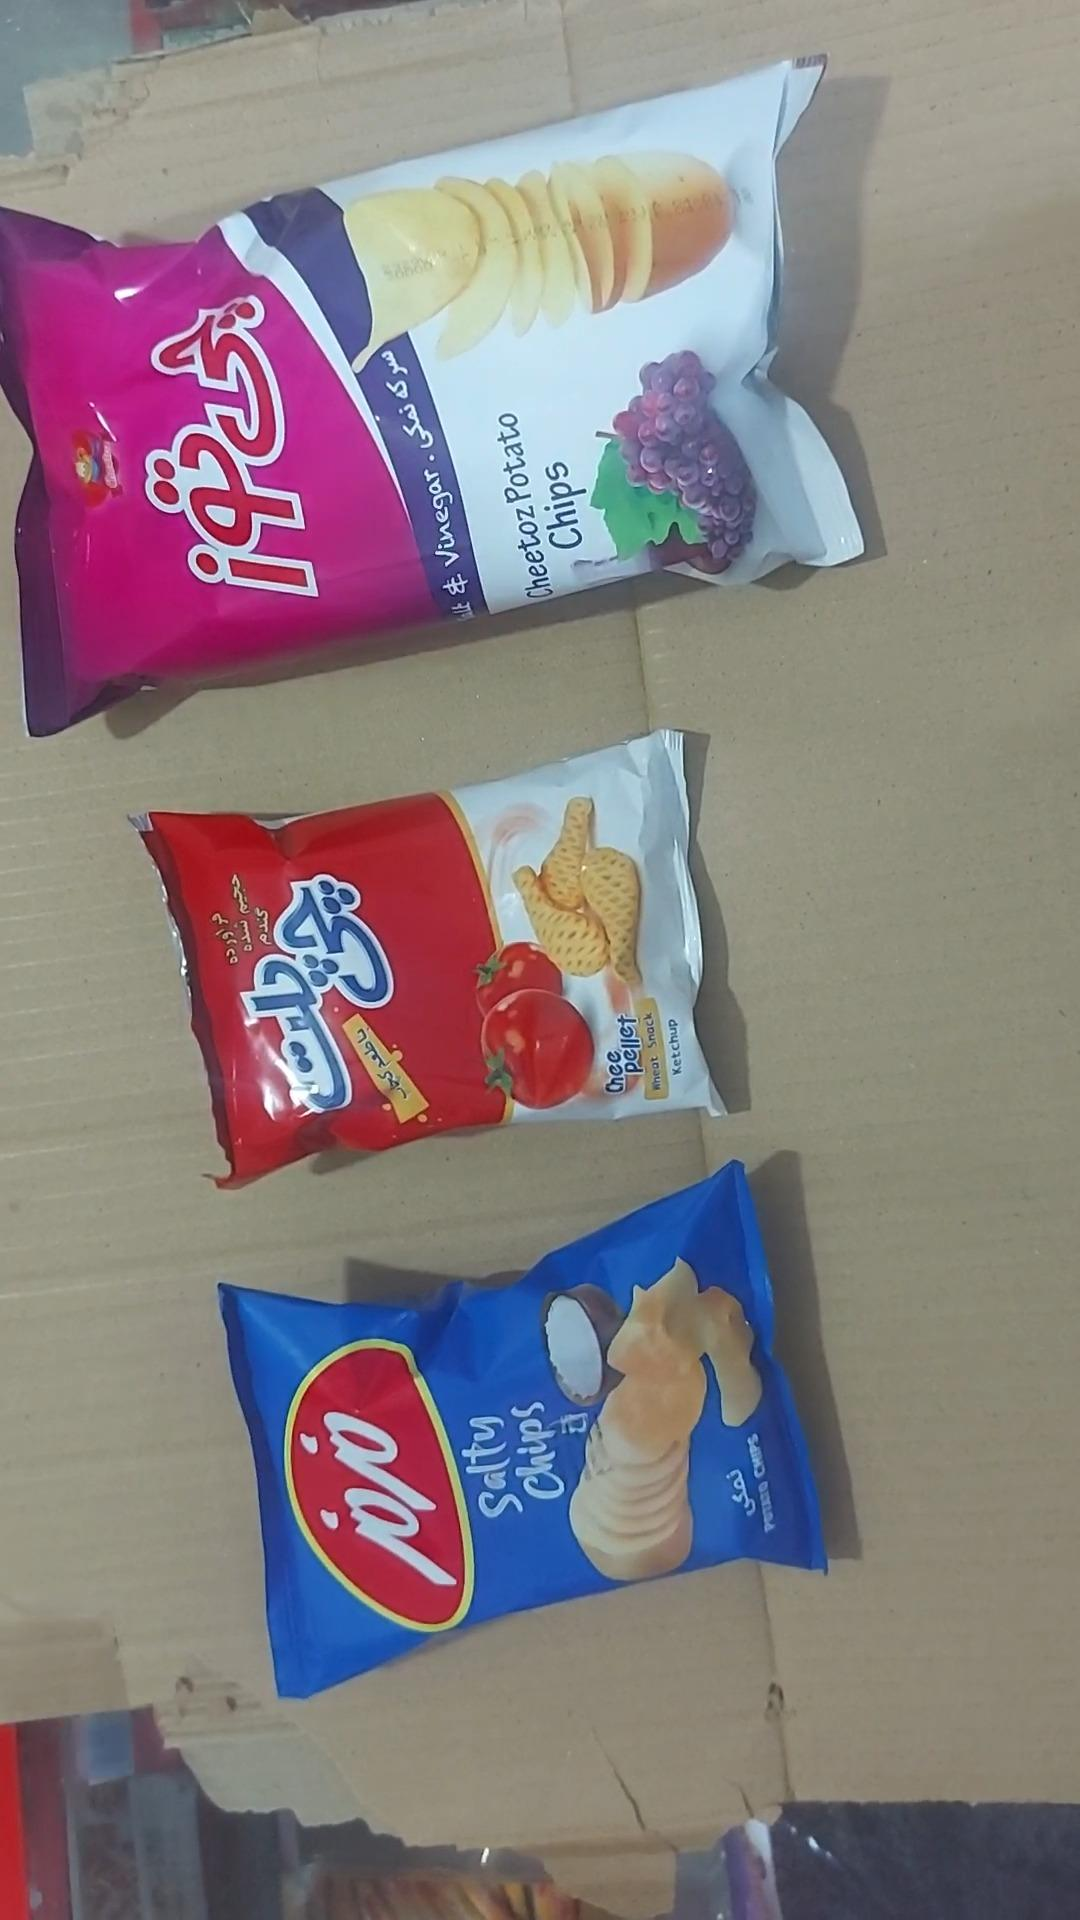Chee pellet ketchup: (128, 731, 727, 1192)
Cheetoz vinegar chips: (0, 55, 866, 740)
Maz Maz salty chips: (216, 1162, 828, 1702)
